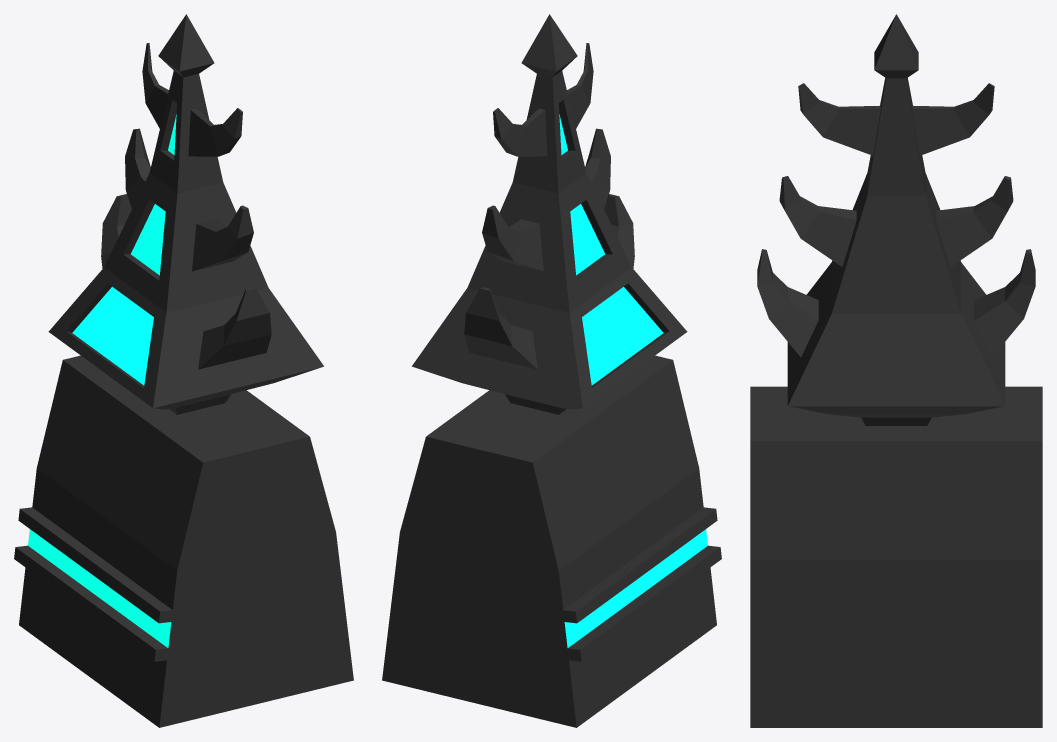
Rendered from TowerPillar.fbx.
3 views of the same model, side by side, from view 1: azimuth 30°, elevation 25°; view 2: azimuth 150°, elevation 25°; view 3: azimuth 270°, elevation 25° (orthographic). The views are drawn at different scales.
Parts seen in each view (by area): view 1: Cube.003; view 2: Cube.003; view 3: Cube.003.
Boxes of the visible parts, bbox=[...] form: Cube.003: bbox=[14, 14, 353, 727]; Cube.003: bbox=[382, 14, 721, 727]; Cube.003: bbox=[750, 14, 1042, 727].
Bounding box in the file's own units: 82 × 251 × 100.
